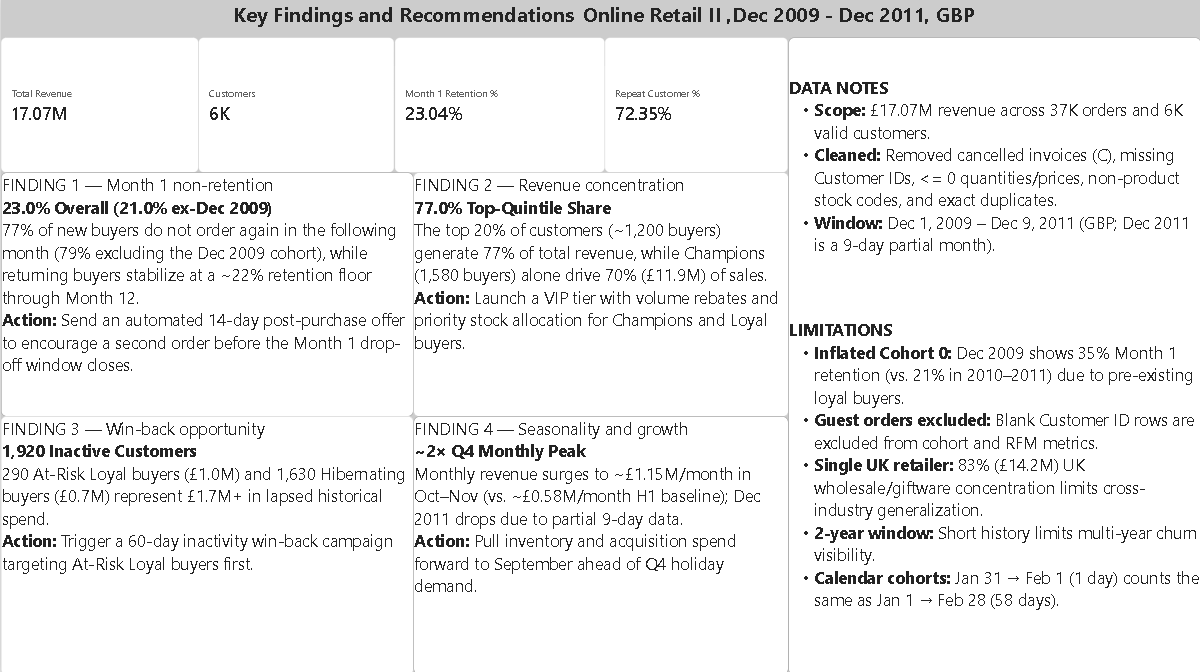

The page's visual inventory and layout, read from the dashboard file:
{"tool":"powerbi","page":{"name":"Insights","canvas":[1920,1080],"ordinal":3},"visuals":[{"type":"textbox","box":[10.5,0,1909.9,57.6],"z":0},{"type":"cardVisual","fields":{"Data":["1.Core Revenue & Order Measures.Total Revenue"]},"box":[0,60,316.7,216.7],"z":1000},{"type":"cardVisual","fields":{"Data":["1.Core Revenue & Order Measures.Customers"]},"box":[316.7,60,313.3,216.7],"z":2000},{"type":"cardVisual","fields":{"Data":["3. Cohort Retention Measures.Month 1 Retention %"]},"box":[630,60,336.7,216.7],"z":3000},{"type":"cardVisual","fields":{"Data":["2. New vs. Returning Customer Measures.Repeat Customer %"]},"box":[966.7,60,293.3,216.7],"z":4000},{"type":"textbox","box":[0,276.7,660,390],"z":5000},{"type":"textbox","box":[0,666.7,660,413.3],"z":6000},{"type":"textbox","box":[660,276.7,600,390],"z":7000},{"type":"textbox","box":[660,666.7,600,413.3],"z":8000},{"type":"textbox","box":[1260,60,660,1020],"z":9000}]}

Visuals, with their boxes in screenshot pixels (x1, y1, x2, y2), scaled from the page's 1920x1080 canvas onto the 1200x672 screenshot:
textbox: <box>7,0,1199,36</box>
cardVisual - 1.Core Revenue & Order Measures.Total Revenue: <box>0,37,198,172</box>
cardVisual - 1.Core Revenue & Order Measures.Customers: <box>198,37,394,172</box>
cardVisual - 3. Cohort Retention Measures.Month 1 Retention %: <box>394,37,604,172</box>
cardVisual - 2. New vs. Returning Customer Measures.Repeat Customer %: <box>604,37,788,172</box>
textbox: <box>0,172,412,415</box>
textbox: <box>0,415,412,671</box>
textbox: <box>412,172,788,415</box>
textbox: <box>412,415,788,671</box>
textbox: <box>788,37,1199,671</box>
